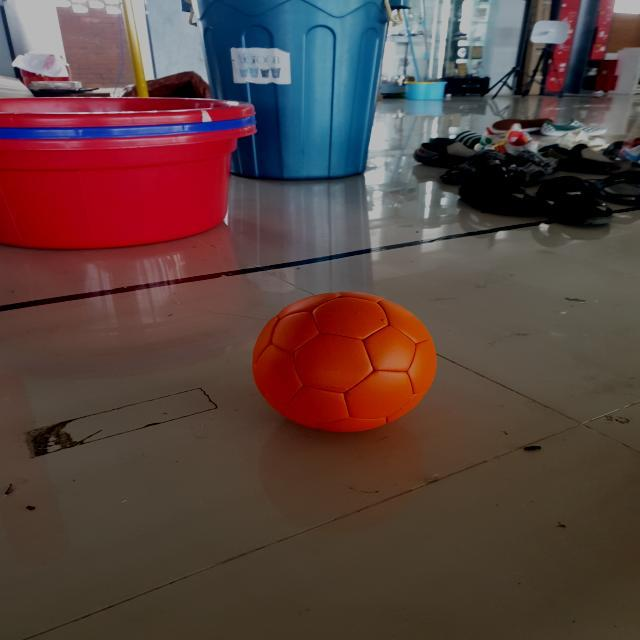bola: (246, 287, 444, 437)
